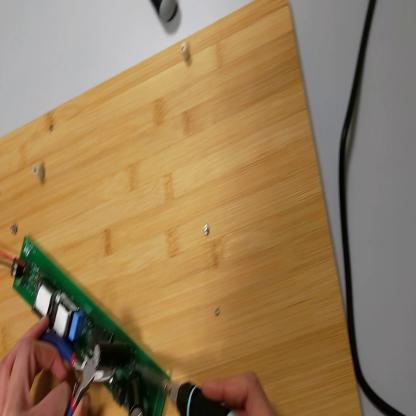hand: (1, 319, 85, 414), (202, 369, 274, 416)
high voltage board: (1, 235, 170, 416)
pliers: (41, 320, 125, 412)
screwdriver-: (153, 1, 180, 32)
welder probe tip: (133, 369, 228, 416)
working area: (2, 3, 363, 415)
